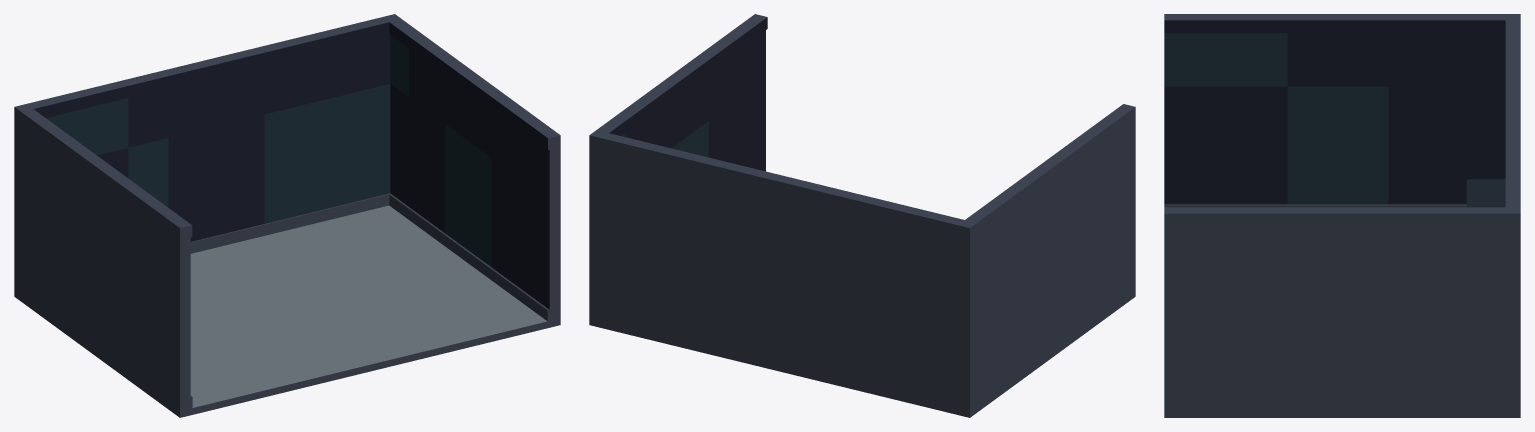
The model's file is RivenRoom_Room.fbx.
3 views of the same model, side by side, from view 1: azimuth 30°, elevation 25°; view 2: azimuth 150°, elevation 25°; view 3: azimuth 270°, elevation 25° (orthographic). The views are drawn at different scales.
Parts seen in each view (by area): view 1: Cube.112; view 2: Cube.112; view 3: Cube.112.
Boxes of the visible parts, bbox=[...] form: Cube.112: bbox=[14, 14, 560, 417]; Cube.112: bbox=[589, 14, 1135, 417]; Cube.112: bbox=[1164, 14, 1520, 417].
Bounding box in the file's own units: 631 × 301 × 476.
